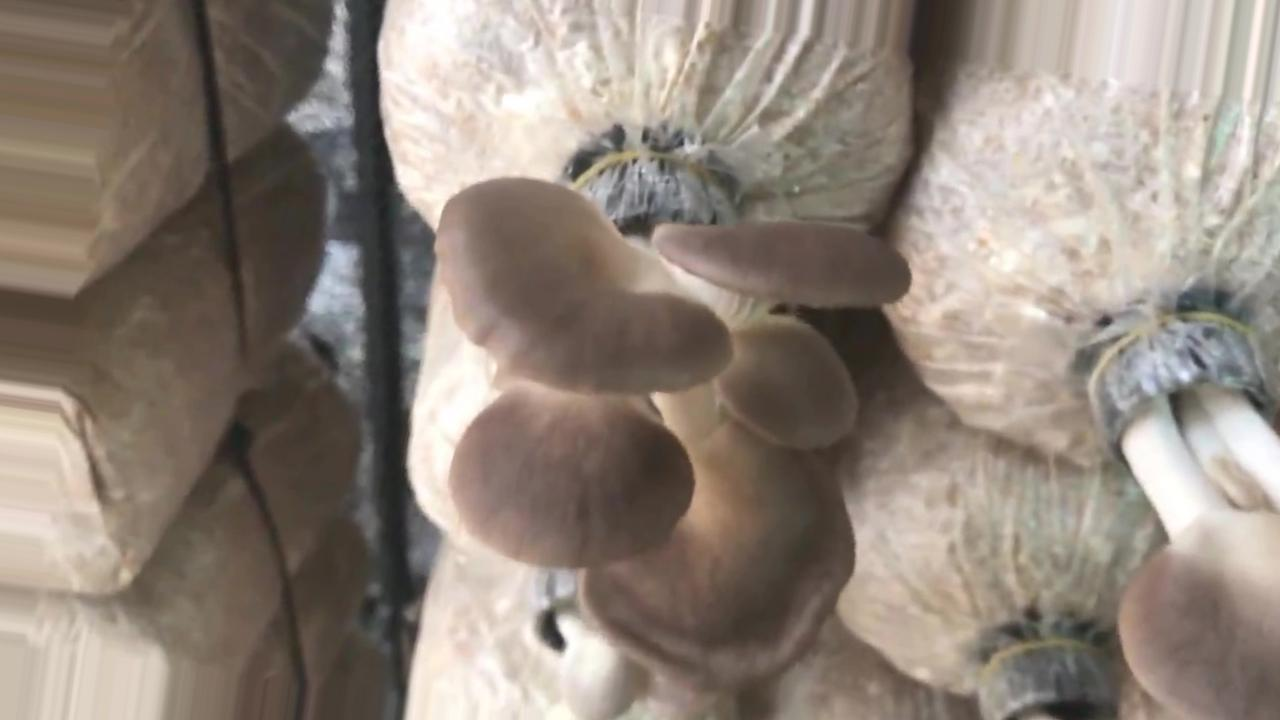nam: (437, 155, 906, 683), (1092, 317, 1280, 720), (524, 576, 640, 719)
